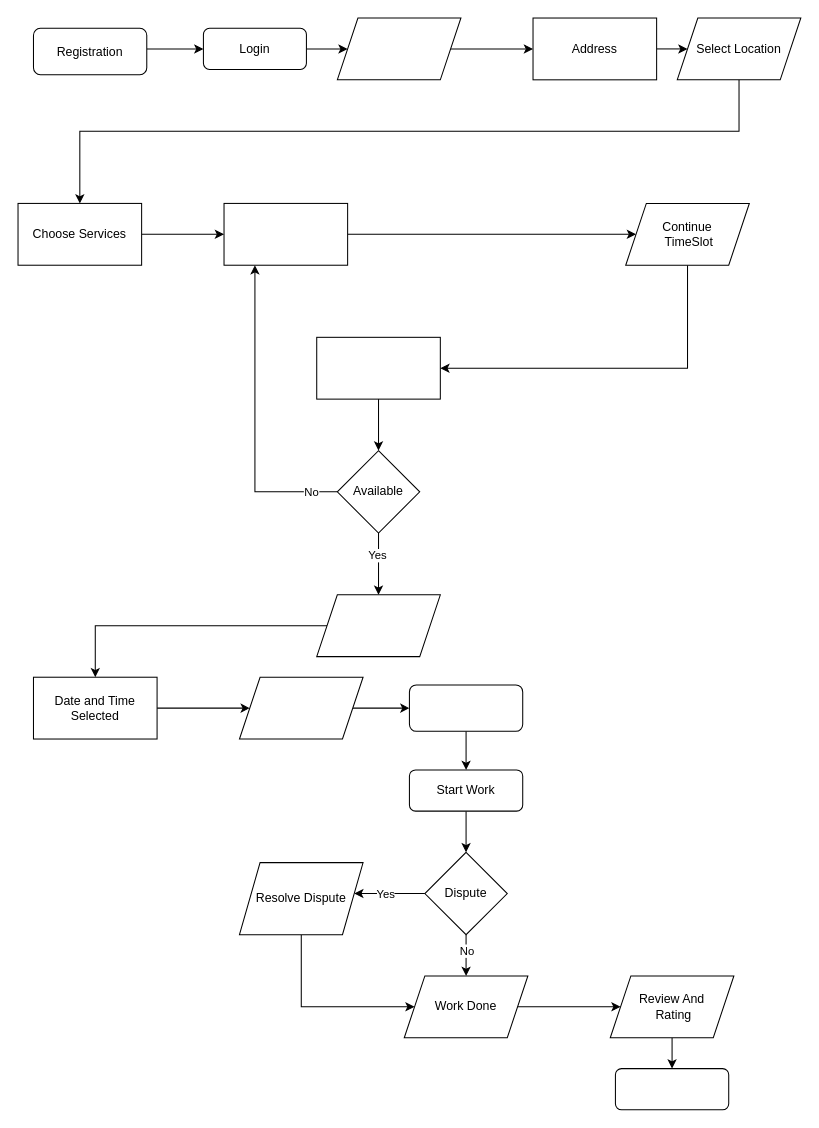
The diagram is 819 pixels wide and 1128 high, and some of its shapes have lost their labels. Each missing label, with the centre of its shape:
"Booking Done" belongs at [465,707].
"Chose Professional" belongs at [285,233].
"Continue To Next" belongs at [300,707].
"Logout" belongs at [671,1089].
"Next" belongs at [398,48].
"Select Time" belongs at [378,625].
"Timeslot" belongs at [378,367].
